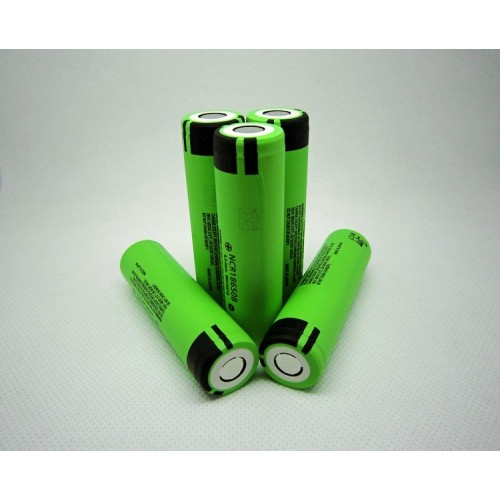Battery: (116, 237, 259, 400), (258, 227, 373, 394), (211, 119, 286, 320)
